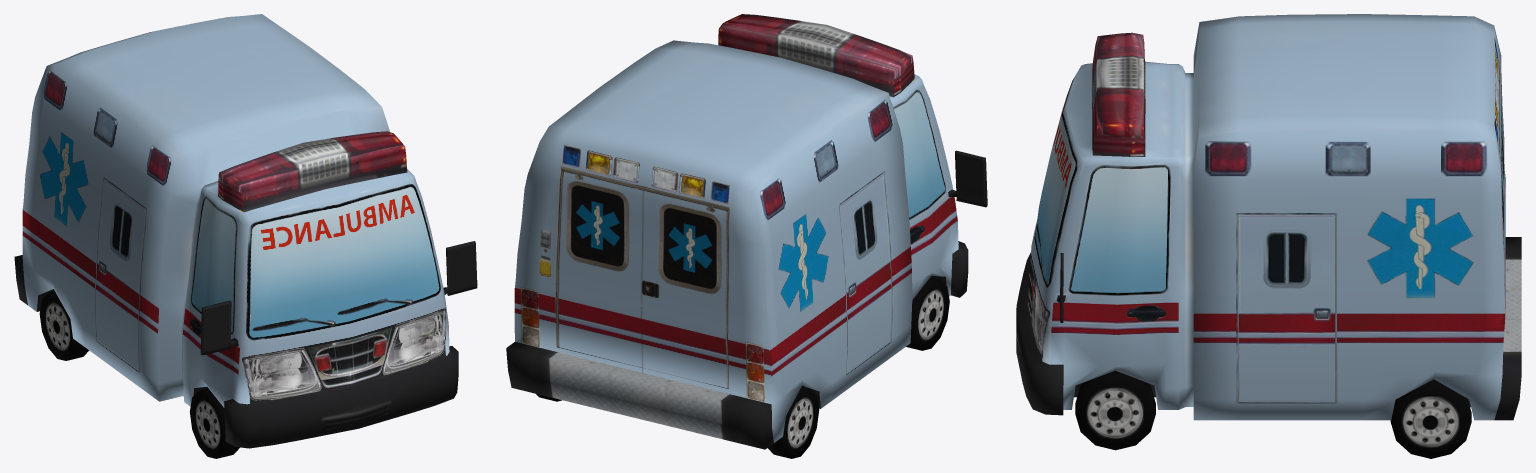
3 views of the same model, side by side, from view 1: azimuth 30°, elevation 25°; view 2: azimuth 150°, elevation 25°; view 3: azimuth 270°, elevation 25° (orthographic). The views are drawn at different scales.
Visible parts, largest first — view 1: Ambulancia; view 2: Ambulancia; view 3: Ambulancia.
Part boxes in pixels (box(x1,y1,x2,y2)): Ambulancia: box(14, 14, 477, 458); Ambulancia: box(506, 14, 987, 458); Ambulancia: box(1016, 14, 1521, 458).
Bounding box in the file's own units: 7.88 × 7.85 × 10.94.
1 material, 1 textured.
